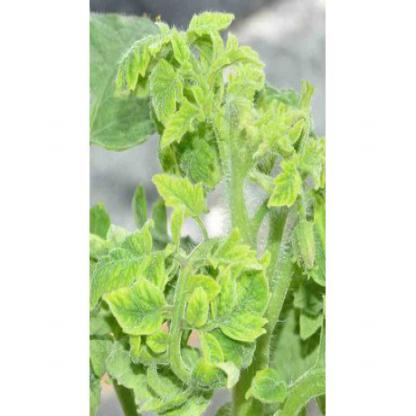tomato leaf yellow virus: (216, 253, 269, 347), (104, 275, 173, 342), (115, 35, 173, 98), (148, 170, 218, 221), (162, 99, 199, 153), (269, 158, 298, 218)
